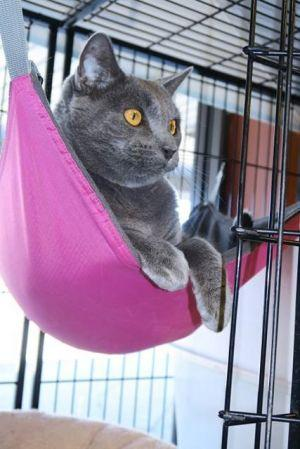rblue: (53, 24, 205, 216)
